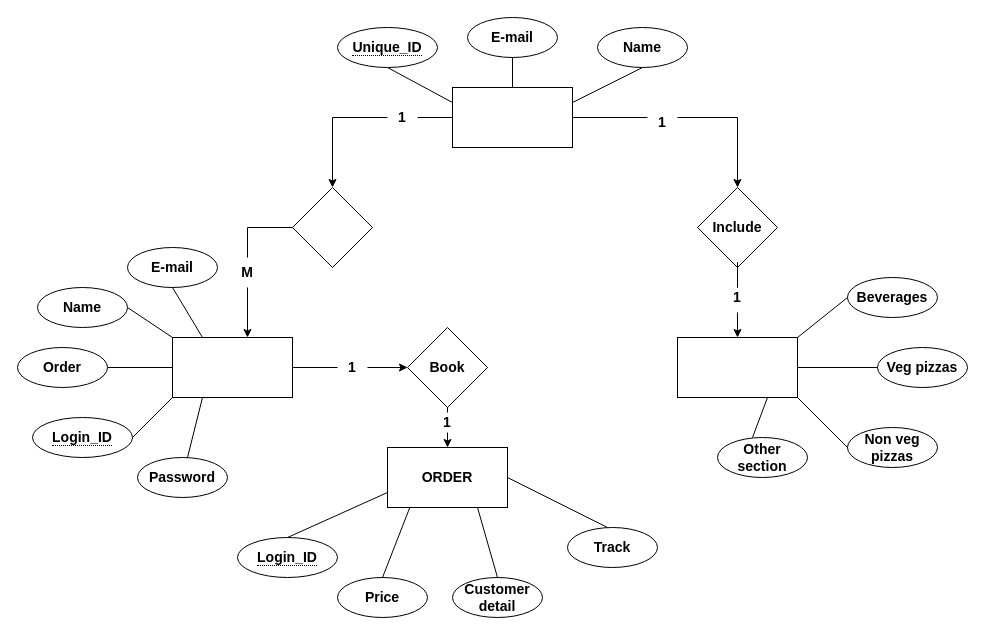
The diagram is 985 pixels wide and 635 high, and some of its shapes have lost their labels. The centre of each missing label's shape, as x and y in pixels:
ADMIN: point (512, 117)
CUSTOMER: point (232, 367)
Manage: point (332, 227)
MENU: point (737, 367)
